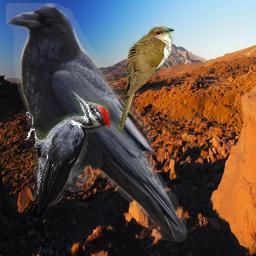Crow: (6, 3, 190, 244)
Cuckoo: (117, 26, 175, 133)
Woodpecker: (24, 90, 111, 217)
